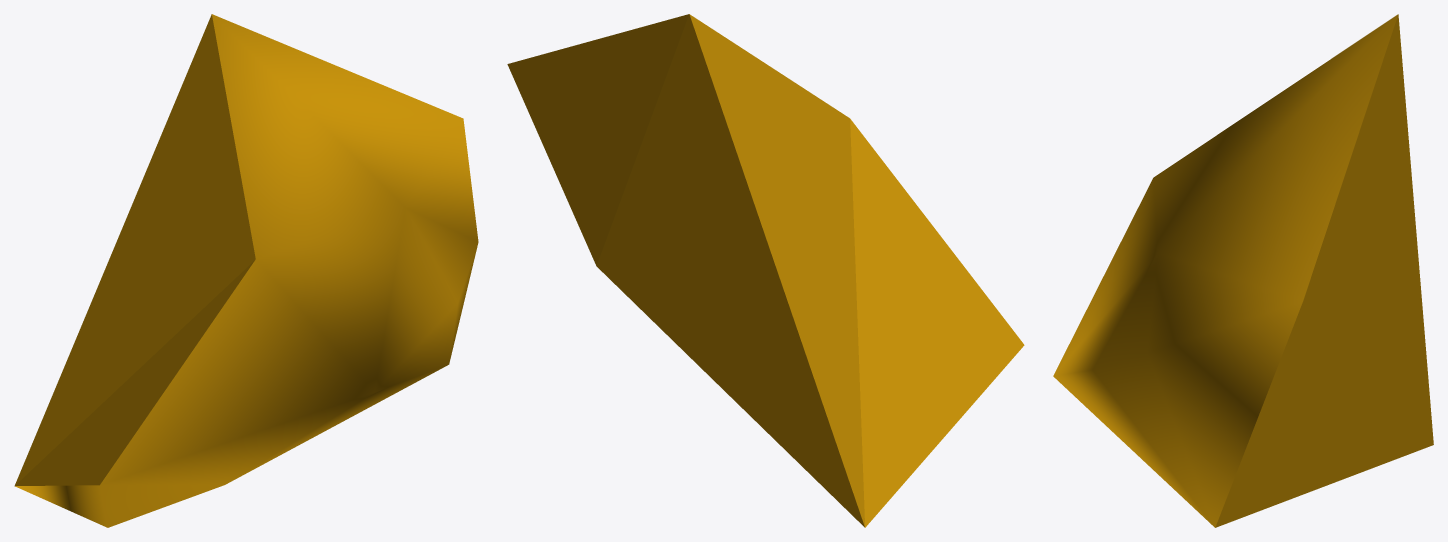
The model's file is Rock_Frag_02.fbx.
3 renders of one model, left to right at view 1: azimuth 30°, elevation 25°; view 2: azimuth 150°, elevation 25°; view 3: azimuth 270°, elevation 25°, orthographic. The views are drawn at different scales.
Parts seen in each view (by area): view 1: pCube1_displacement1; view 2: pCube1_displacement1; view 3: pCube1_displacement1.
Part boxes in pixels (x1=…): pCube1_displacement1: x1=14, y1=14, x2=478, y2=527; pCube1_displacement1: x1=507, y1=14, x2=1024, y2=527; pCube1_displacement1: x1=1053, y1=14, x2=1433, y2=527.
Size of the model in its own units: 8.79 by 8.56 by 5.46.
